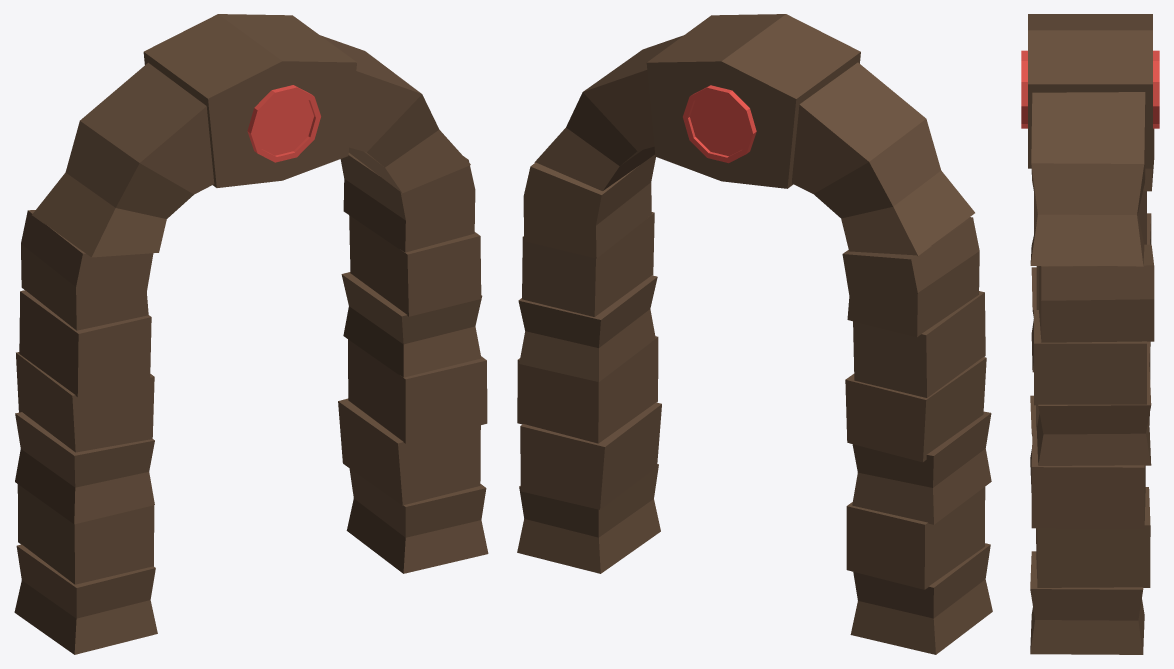
The model's file is Archway_4_Brown.fbx.
3 renders of one model, left to right at view 1: azimuth 30°, elevation 25°; view 2: azimuth 150°, elevation 25°; view 3: azimuth 270°, elevation 25°, orthographic. The views are drawn at different scales.
Parts seen in each view (by area): view 1: Archway_4_Brown_Part_1, Archway_4_Brown_Part_2; view 2: Archway_4_Brown_Part_1, Archway_4_Brown_Part_2; view 3: Archway_4_Brown_Part_1, Archway_4_Brown_Part_2.
Part boxes in pixels (x1,y1,x2,y2): Archway_4_Brown_Part_1: [14, 14, 488, 654]; Archway_4_Brown_Part_2: [247, 85, 320, 162]; Archway_4_Brown_Part_1: [517, 14, 992, 654]; Archway_4_Brown_Part_2: [683, 85, 756, 163]; Archway_4_Brown_Part_1: [1028, 14, 1154, 654]; Archway_4_Brown_Part_2: [1021, 50, 1159, 128].
Bounding box in the file's own units: 570 × 710 × 169.
